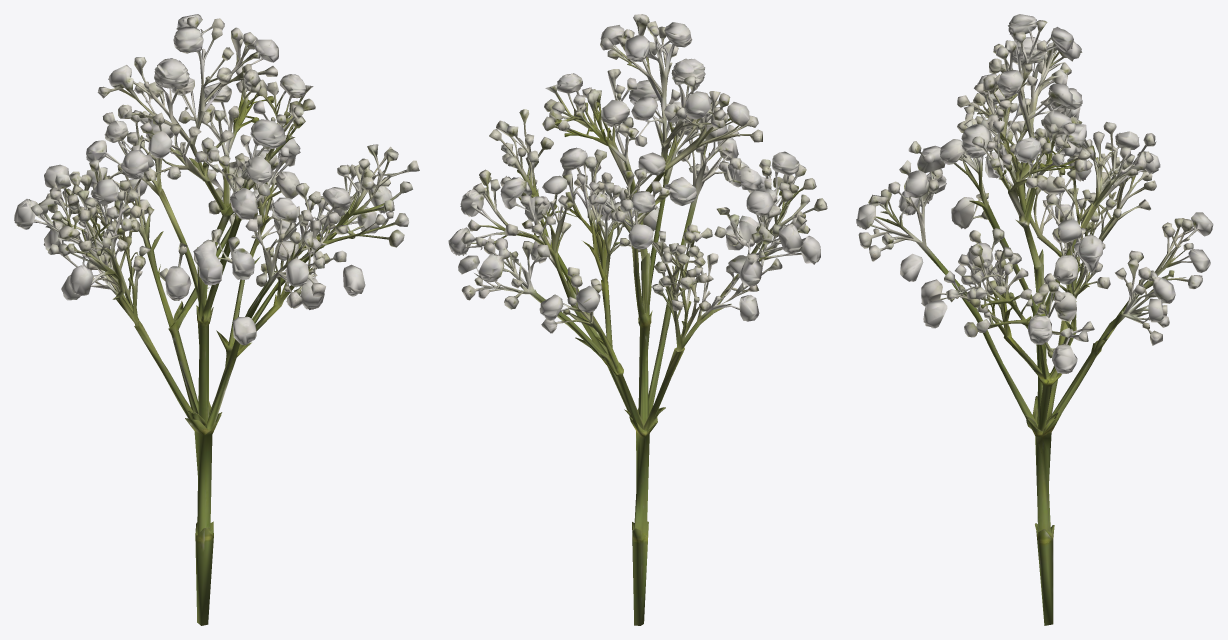
File: fl-fill-gypsophila.glb
The picture shows the model from 3 angles, left to right: view 1: azimuth 30°, elevation 25°; view 2: azimuth 150°, elevation 25°; view 3: azimuth 270°, elevation 25°; orthographic projection. The views are drawn at different scales.
Parts seen in each view (by area): view 1: node_0; view 2: node_0; view 3: node_0.
Boxes of the visible parts, <box> form: node_0: <box>14,14,419,625</box>; node_0: <box>448,14,827,625</box>; node_0: <box>856,14,1213,625</box>.
Size of the model in its own units: 0.7371 by 1.19 by 0.6466.
1 material, 1 textured.
